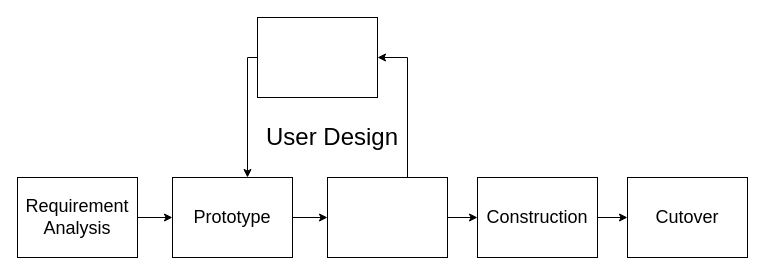
Image size: 765x275. Some labels were removed from this diagram. Here are the shapes that lost their labels. From the top down, the centre of each, then its label:
At pixel 317 57: "Refine".
At pixel 387 217: "Test".
